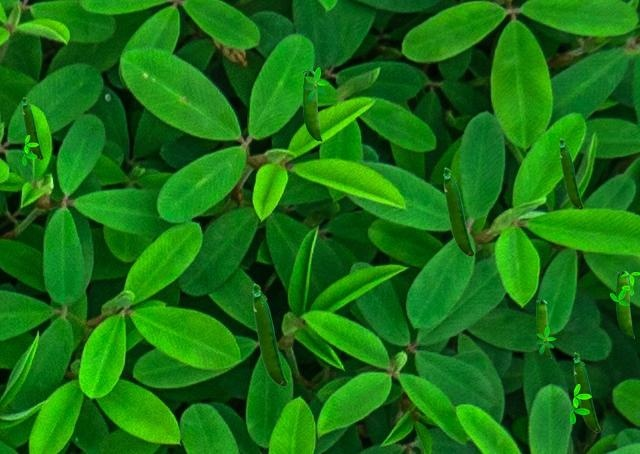pea: (252, 283, 286, 385), (443, 167, 473, 255), (573, 352, 599, 431), (559, 138, 582, 208), (303, 71, 321, 141), (22, 97, 42, 158), (616, 271, 633, 337), (536, 300, 550, 357)
